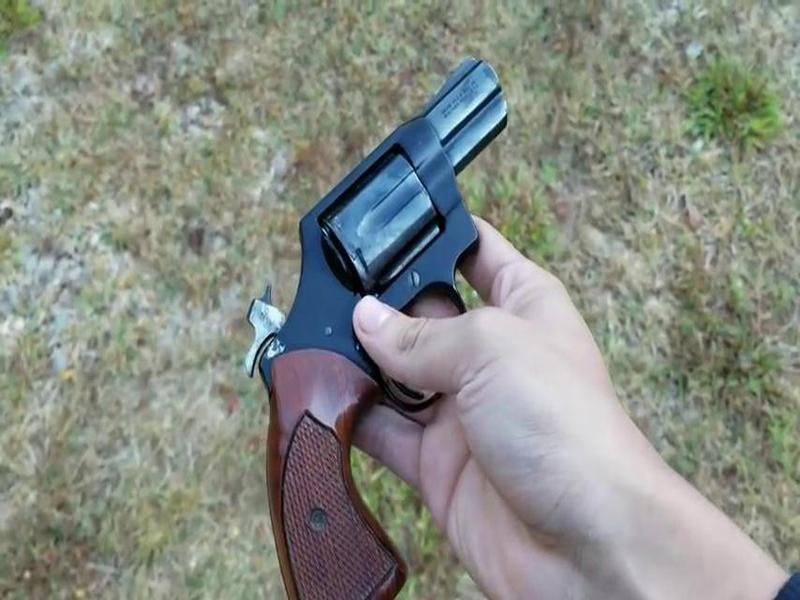Revolver: (227, 51, 542, 600)
